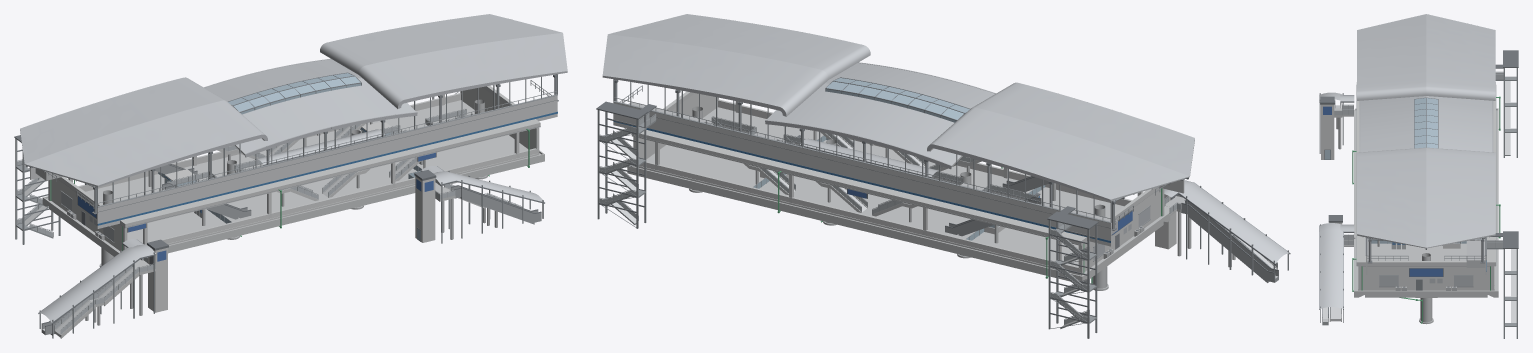
3 views of the same model, side by side, from view 1: azimuth 30°, elevation 25°; view 2: azimuth 150°, elevation 25°; view 3: azimuth 270°, elevation 25° (orthographic). The views are drawn at different scales.
Parts seen in each view (by area): view 1: BL33, BL33_conc, BL33_access; view 2: BL33, BL33_conc, BL33_access; view 3: BL33, BL33_conc, BL33_access.
Part boxes in pixels (x1,y1,x2,y2): BL33: (20, 14, 567, 228); BL33_conc: (42, 85, 544, 266); BL33_access: (14, 91, 544, 338); BL33: (602, 14, 1194, 246); BL33_conc: (627, 91, 1170, 290); BL33_access: (596, 101, 1290, 338); BL33: (1357, 14, 1495, 274); BL33_conc: (1354, 82, 1498, 324); BL33_access: (1319, 50, 1518, 338).
Bounding box in the file's own units: 117 × 28 × 39.63.
